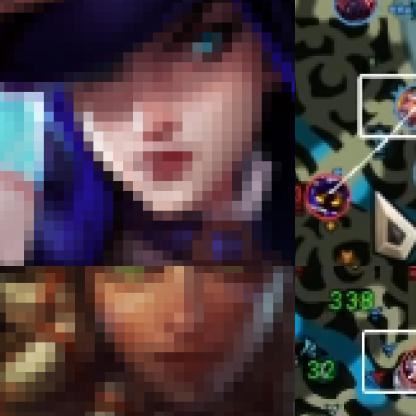Blitzcrank: (401, 348, 415, 385)
Caitlyn: (0, 0, 294, 265)
Nidalee: (0, 266, 294, 415)
Qiyana: (396, 85, 415, 129)
Sion: (334, 0, 378, 24)
Veigar: (306, 175, 351, 218)
